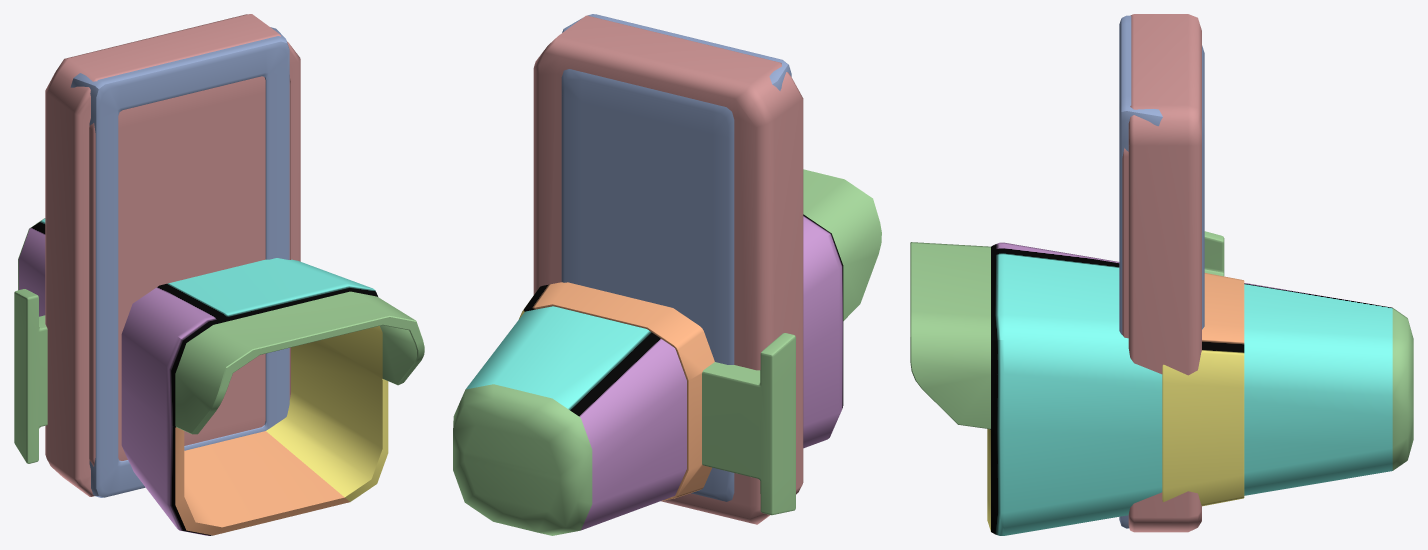
The model's file is Speakers01.fbx.
3 renders of one model, left to right at view 1: azimuth 30°, elevation 25°; view 2: azimuth 150°, elevation 25°; view 3: azimuth 270°, elevation 25°, orthographic. The views are drawn at different scales.
Parts seen in each view (by area): view 1: Speaker_Body1, Speaker_Body2, Speaker_Body; view 2: Speaker_Body1, Speaker_Body, Speaker_Body2; view 3: Speaker_Body1, Speaker_Body2, Speaker_Body.
Part boxes in pixels (left/top/right/bottom): Speaker_Body1: left=14, top=218, right=424, bottom=535; Speaker_Body2: left=45, top=14, right=300, bottom=496; Speaker_Body: left=70, top=27, right=289, bottom=497; Speaker_Body1: left=453, top=169, right=881, bottom=535; Speaker_Body: left=561, top=14, right=791, bottom=501; Speaker_Body2: left=533, top=15, right=803, bottom=524; Speaker_Body1: left=910, top=231, right=1413, bottom=535; Speaker_Body2: left=1122, top=14, right=1201, bottom=532; Speaker_Body: left=1119, top=15, right=1204, bottom=528.
Size of the model in its own units: 14.59 by 21.91 by 23.38.
